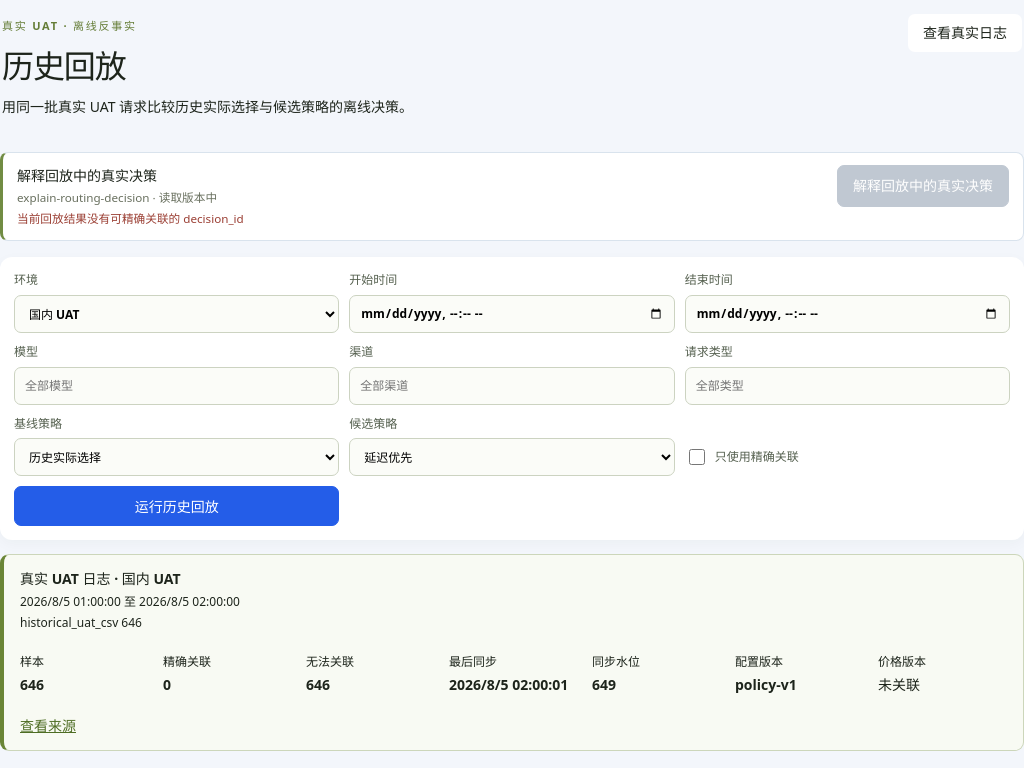
Test: HistoricalReplayPage › keeps observed statistics valid when candidate strategy is not comparable
The width and height of the screenshot is (1024, 768).
Click the button "运行历史回放".
click(177, 506)  # box [14,486,339,526]
(page scrolled)
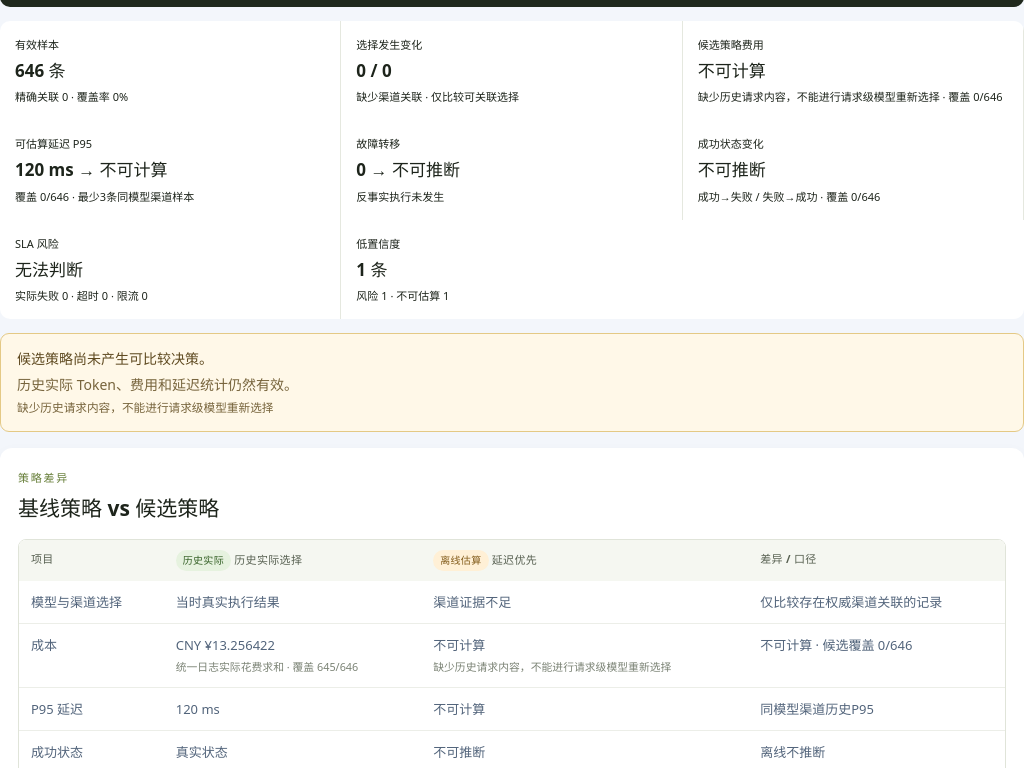
Expected: the text "候选策略尚未产生可比较决策。" is shown, [17,349,213,368]
Expected: the text "历史实际 Token、费用和延迟统计仍然有效。" is shown, [17,375,298,394]
